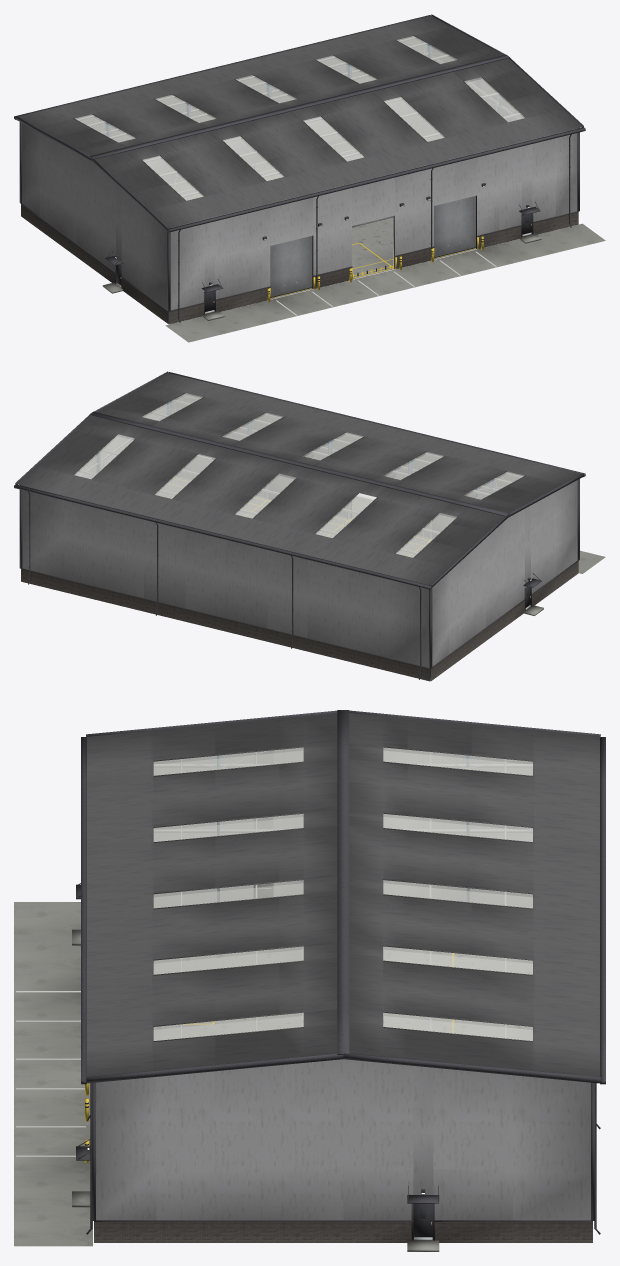
The model's file is Warehouse.glb.
3 renders of one model, top to bottom at view 1: azimuth 30°, elevation 25°; view 2: azimuth 150°, elevation 25°; view 3: azimuth 270°, elevation 25°, orthographic. The views are drawn at different scales.
Parts seen in each view (by area): view 1: shell, shutter_1_mesh, shutter_3_mesh, structure, door_frames, floor_markings, shutter_frames; view 2: shell, structure; view 3: shell, structure, door_frames, floor_markings, door_3_mesh.
Boxes of the visible parts, x1=… form: shell: x1=14, y1=14, x2=605, y2=342; shutter_1_mesh: x1=270, y1=236, x2=312, y2=297; shutter_3_mesh: x1=434, y1=196, x2=475, y2=257; structure: x1=76, y1=37, x2=521, y2=322; door_frames: x1=102, y1=201, x2=541, y2=320; floor_markings: x1=171, y1=141, x2=496, y2=315; shutter_frames: x1=267, y1=216, x2=483, y2=302; shell: x1=14, y1=371, x2=605, y2=681; structure: x1=77, y1=394, x2=523, y2=679; shell: x1=14, y1=710, x2=605, y2=1246; structure: x1=153, y1=751, x2=532, y2=1038; door_frames: x1=72, y1=883, x2=439, y2=1251; floor_markings: x1=16, y1=947, x2=454, y2=1156; door_3_mesh: x1=413, y1=1204, x2=433, y2=1239.
Bounding box in the file's own units: 42.2 × 10.63 × 29.65.
17 materials, 9 textured.
